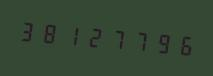eight: (39, 14, 60, 51)
nine: (149, 23, 170, 61)
one: (61, 16, 82, 53)
seven: (105, 19, 126, 57), (127, 21, 148, 59)
six: (171, 25, 192, 63)
three: (17, 12, 38, 49)
two: (83, 18, 104, 55)
